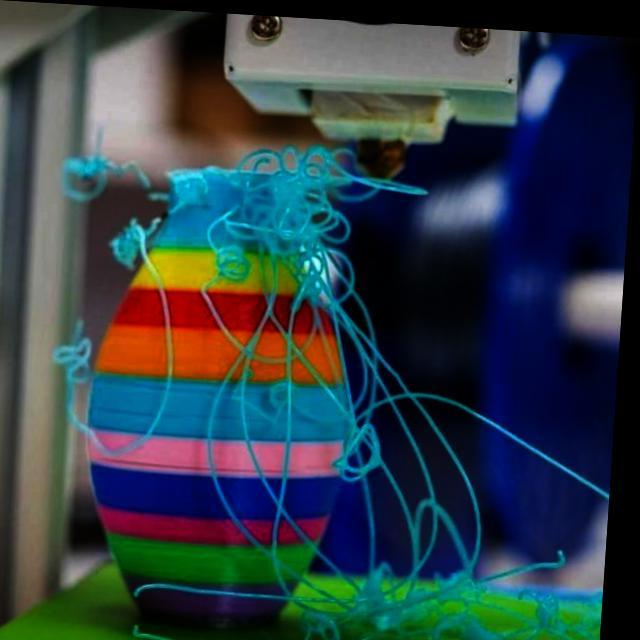spaghetti: (197, 326, 624, 640), (223, 136, 444, 336)
